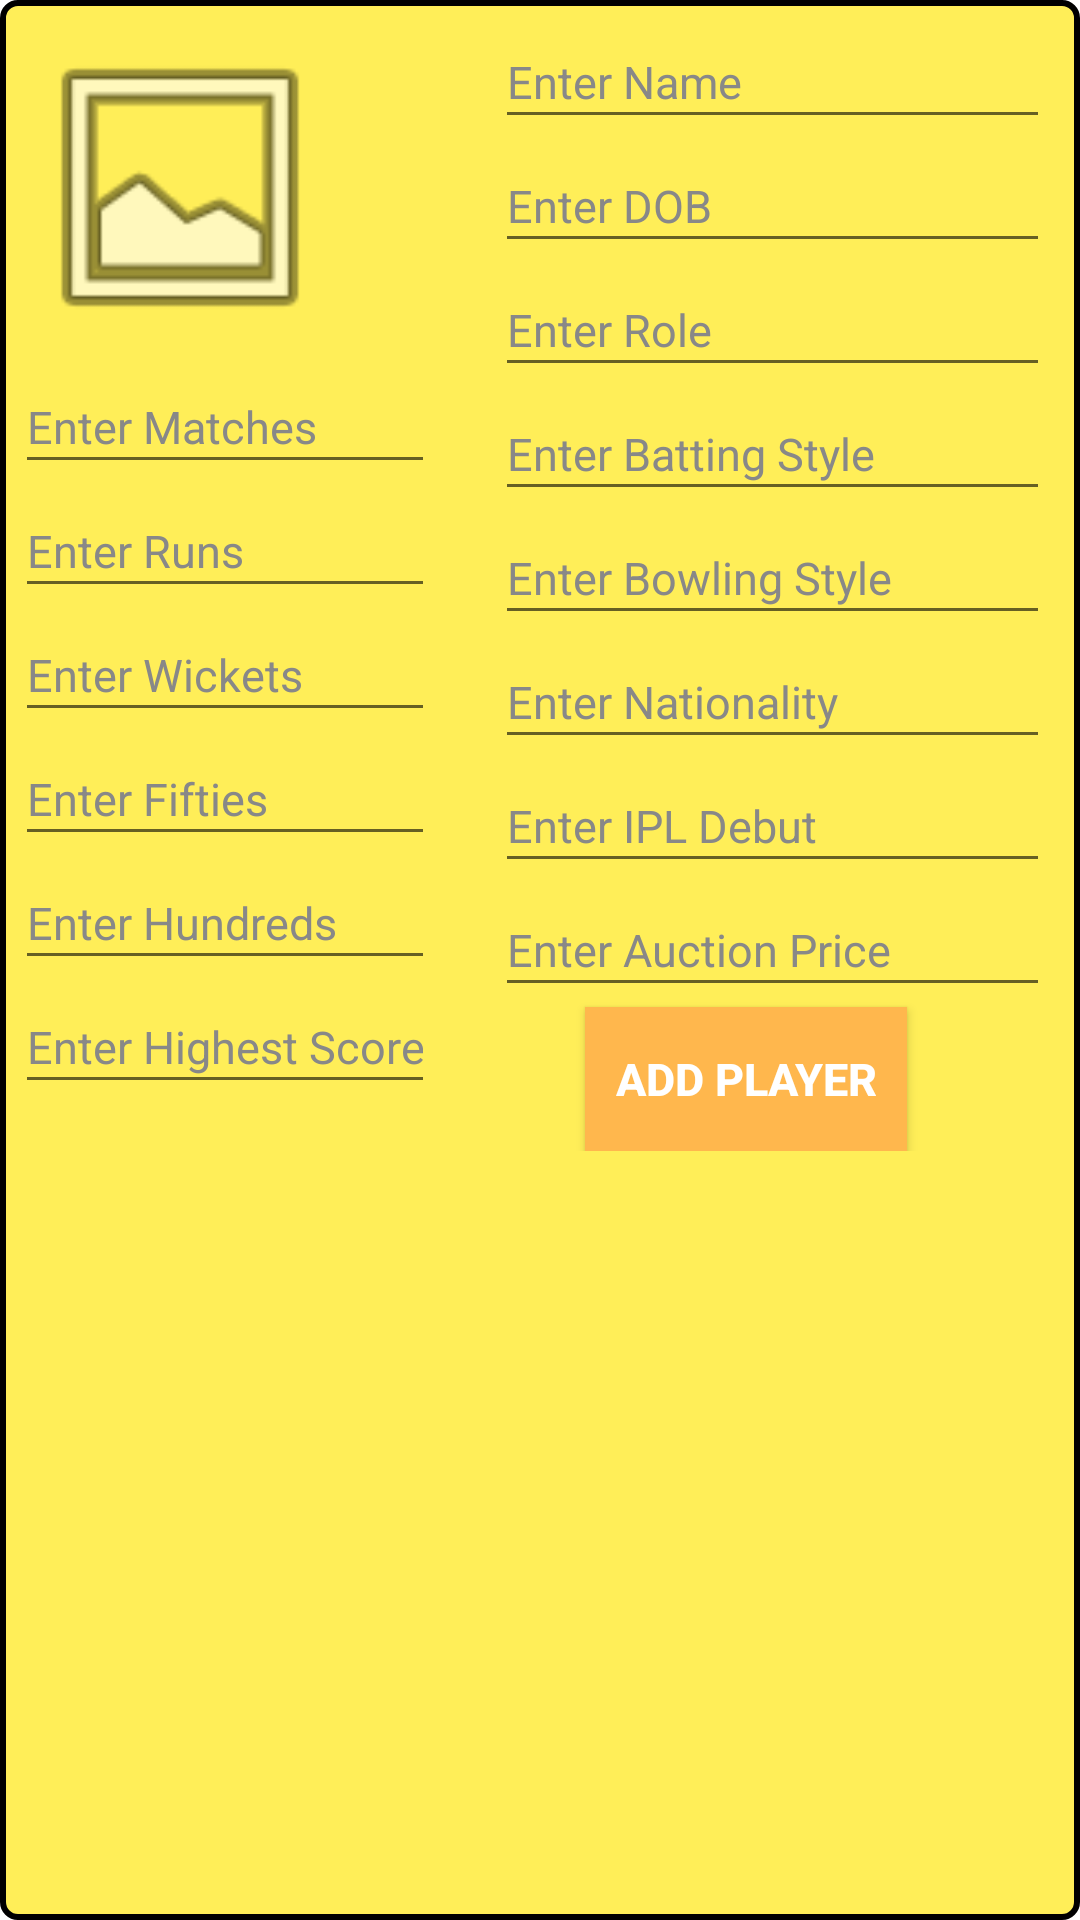

Icon click points for this 1080x1920 phone screenshot, format point (x, y):
Select Image: point (180, 187)
